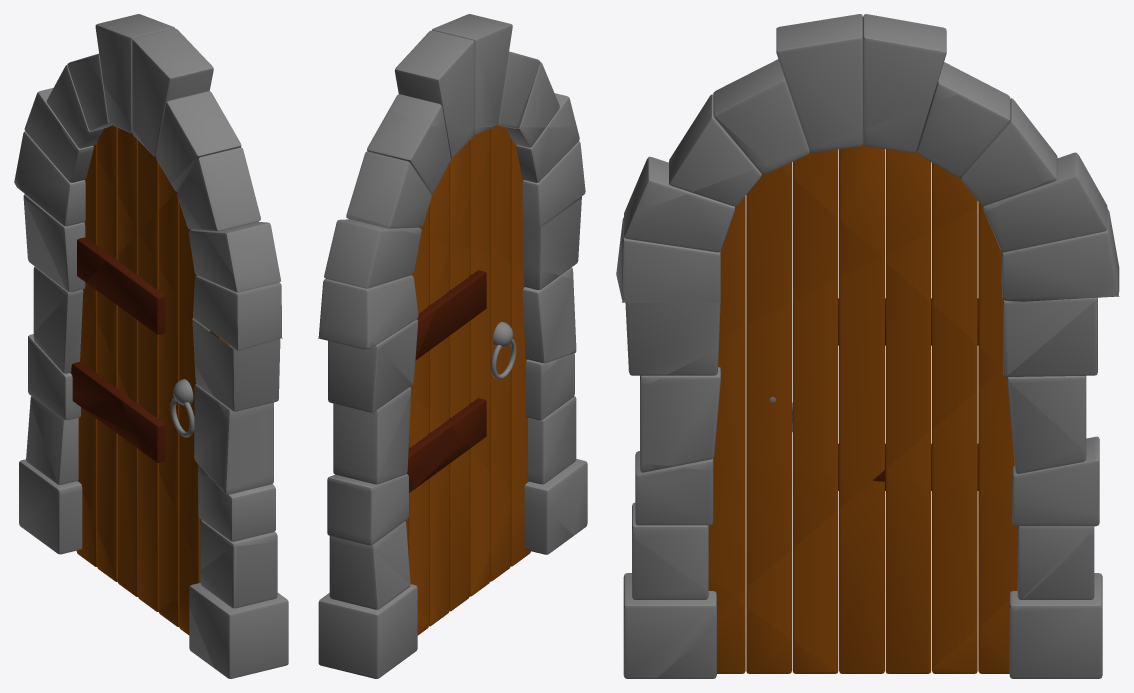
File: porte_puzzle_antoine.fbx
3 renders of one model, left to right at view 1: azimuth 30°, elevation 25°; view 2: azimuth 150°, elevation 25°; view 3: azimuth 270°, elevation 25°, orthographic. The views are drawn at different scales.
Parts seen in each view (by area): view 1: porte puzzle 7, porte puzzle 10, porte puzzle 1, porte puzzle 3, porte puzzle 5, porte puzzle 11, porte puzzle 4, porte puzzle 9, porte puzzle 8, porte puzzle 2, porte puzzle 13, porte puzzle 6 (+1 smaller); view 2: porte puzzle 7, porte puzzle 1, porte puzzle 10, porte puzzle 5, porte puzzle 4, porte puzzle 3, porte puzzle 13, porte puzzle 6, porte puzzle 9, porte puzzle 8, porte puzzle 11, porte puzzle 12 (+1 smaller); view 3: porte puzzle 7, porte puzzle 10, porte puzzle 1, porte puzzle 5, porte puzzle 4, porte puzzle 3, porte puzzle 9, porte puzzle 8, porte puzzle 13, porte puzzle 11, porte puzzle 6, porte puzzle 12 (+1 smaller).
Boxes of the visible parts, left/top/right/bottom form: porte puzzle 7: left=85, top=232, right=273, bottom=488; porte puzzle 10: left=28, top=387, right=200, bottom=611; porte puzzle 1: left=139, top=185, right=282, bottom=421; porte puzzle 3: left=86, top=14, right=240, bottom=184; porte puzzle 5: left=15, top=88, right=138, bottom=291; porte puzzle 11: left=189, top=542, right=288, bottom=678; porte puzzle 4: left=46, top=57, right=176, bottom=231; porte puzzle 9: left=135, top=435, right=277, bottom=570; porte puzzle 8: left=28, top=290, right=134, bottom=434; porte puzzle 2: left=172, top=144, right=276, bottom=275; porte puzzle 13: left=19, top=402, right=119, bottom=584; porte puzzle 6: left=14, top=175, right=84, bottom=332; porte puzzle 7: left=410, top=244, right=576, bottom=440; porte puzzle 1: left=452, top=126, right=585, bottom=279; porte puzzle 10: left=327, top=441, right=515, bottom=624; porte puzzle 5: left=319, top=214, right=452, bottom=384; porte puzzle 4: left=347, top=109, right=498, bottom=244; porte puzzle 3: left=389, top=14, right=540, bottom=128; porte puzzle 13: left=318, top=542, right=431, bottom=678; porte puzzle 6: left=318, top=326, right=412, bottom=477; porte puzzle 9: left=465, top=347, right=576, bottom=495; porte puzzle 8: left=327, top=393, right=464, bottom=538; porte puzzle 11: left=516, top=400, right=587, bottom=535; porte puzzle 12: left=469, top=496, right=573, bottom=596; porte puzzle 7: left=640, top=257, right=1002, bottom=480; porte puzzle 10: left=734, top=477, right=1099, bottom=673; porte puzzle 1: left=616, top=164, right=879, bottom=387; porte puzzle 5: left=881, top=152, right=1117, bottom=376; porte puzzle 4: left=781, top=74, right=1056, bottom=256; porte puzzle 3: left=713, top=14, right=967, bottom=169; porte puzzle 9: left=632, top=451, right=871, bottom=597; porte puzzle 8: left=877, top=370, right=1099, bottom=514; porte puzzle 13: left=926, top=535, right=1102, bottom=678; porte puzzle 11: left=623, top=535, right=733, bottom=678; porte puzzle 6: left=1006, top=257, right=1119, bottom=450; porte puzzle 12: left=656, top=598, right=837, bottom=678.
Bounding box in the file's own units: 53.39 × 480 × 338.
